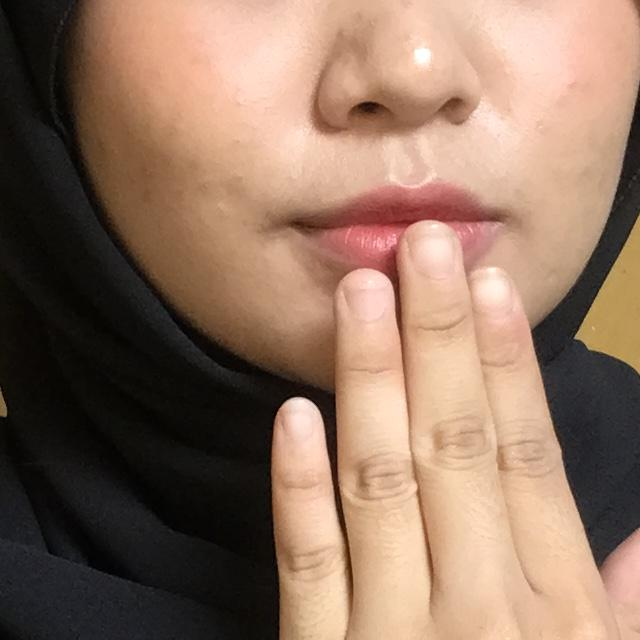ganteng: (240, 196, 640, 640)
